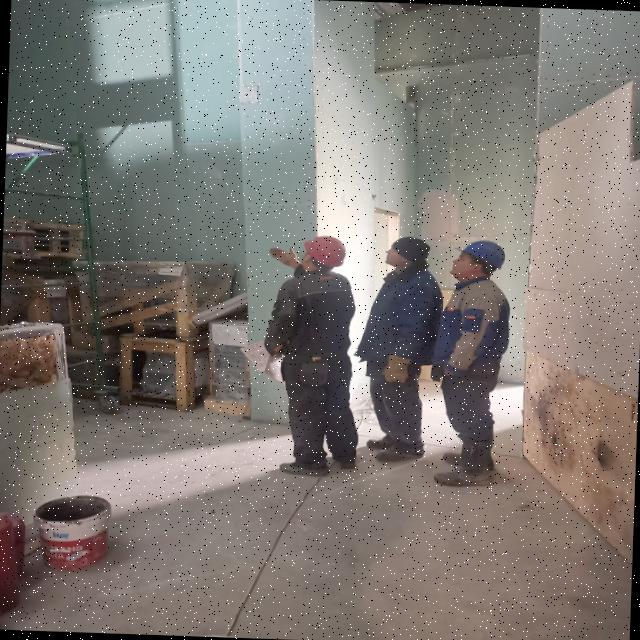Helmet: (446, 240, 509, 285), (297, 233, 350, 274)
NoHelmet: (382, 235, 435, 274)
